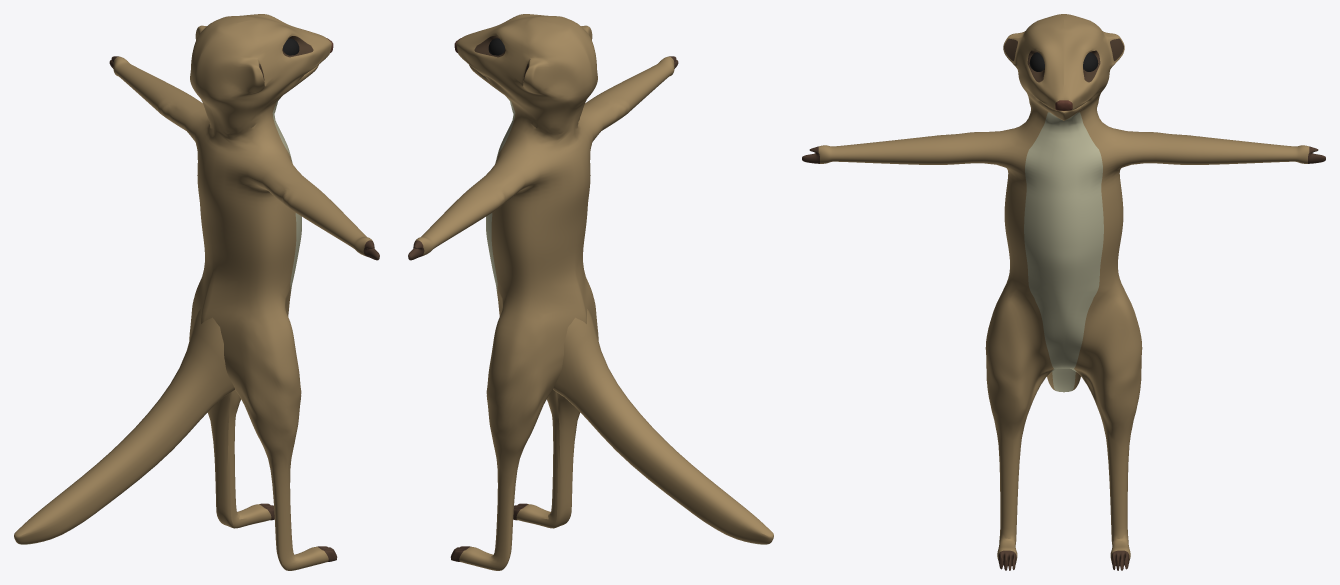
Rendered from meerkat.glb.
The picture shows the model from 3 angles, left to right: view 1: azimuth 30°, elevation 25°; view 2: azimuth 150°, elevation 25°; view 3: azimuth 270°, elevation 25°; orthographic projection. The views are drawn at different scales.
Parts seen in each view (by area): view 1: Cube, Tail; view 2: Cube, Tail; view 3: Cube, Tail.
Boxes of the visible parts, x1,y1,x2,y2 form: Cube: (109, 14, 379, 570); Tail: (14, 309, 234, 544); Cube: (408, 14, 678, 570); Tail: (553, 309, 773, 544); Cube: (802, 14, 1325, 570); Tail: (1047, 368, 1080, 392).
Bounding box in the file's own units: 37.43 × 60.13 × 54.97.
